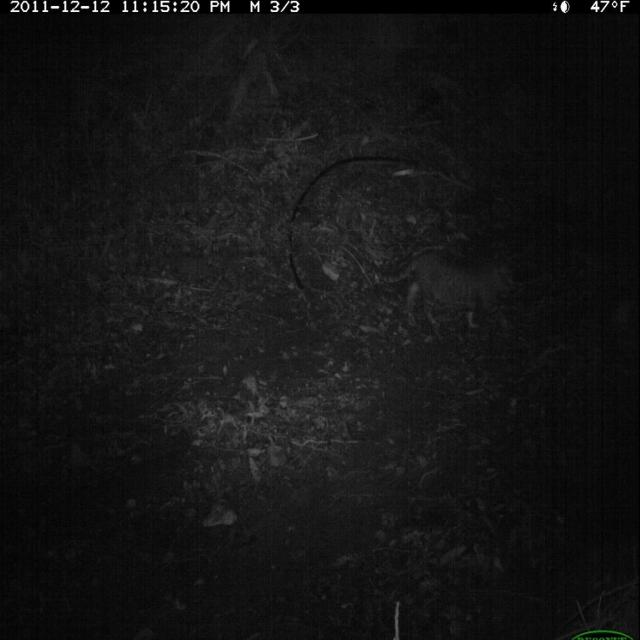cat: (379, 226, 524, 344)
